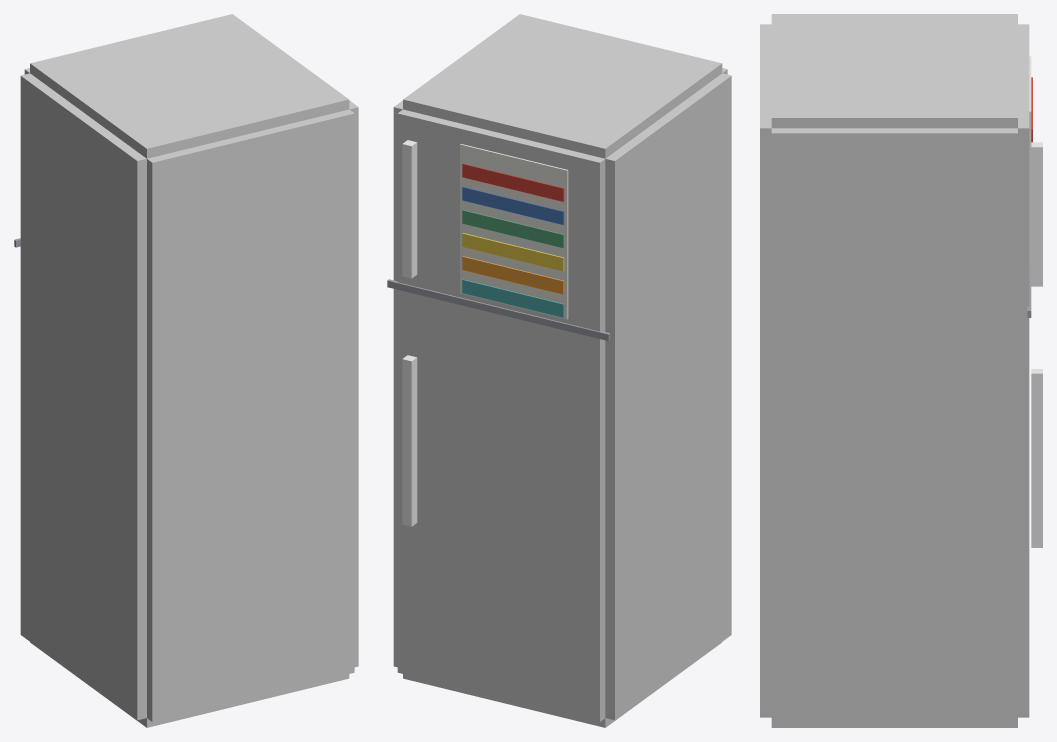
Rendered from fridge.glb.
3 renders of one model, left to right at view 1: azimuth 30°, elevation 25°; view 2: azimuth 150°, elevation 25°; view 3: azimuth 270°, elevation 25°, orthographic. The views are drawn at different scales.
Visible parts, largest first — view 1: fridge; view 2: fridge; view 3: fridge.
Boxes of the visible parts, x1,y1,x2,y2 form: fridge: (14, 14, 358, 727); fridge: (387, 14, 731, 727); fridge: (760, 14, 1042, 727).
Bounding box in the file's own units: 0.7 × 1.75 × 0.735.
